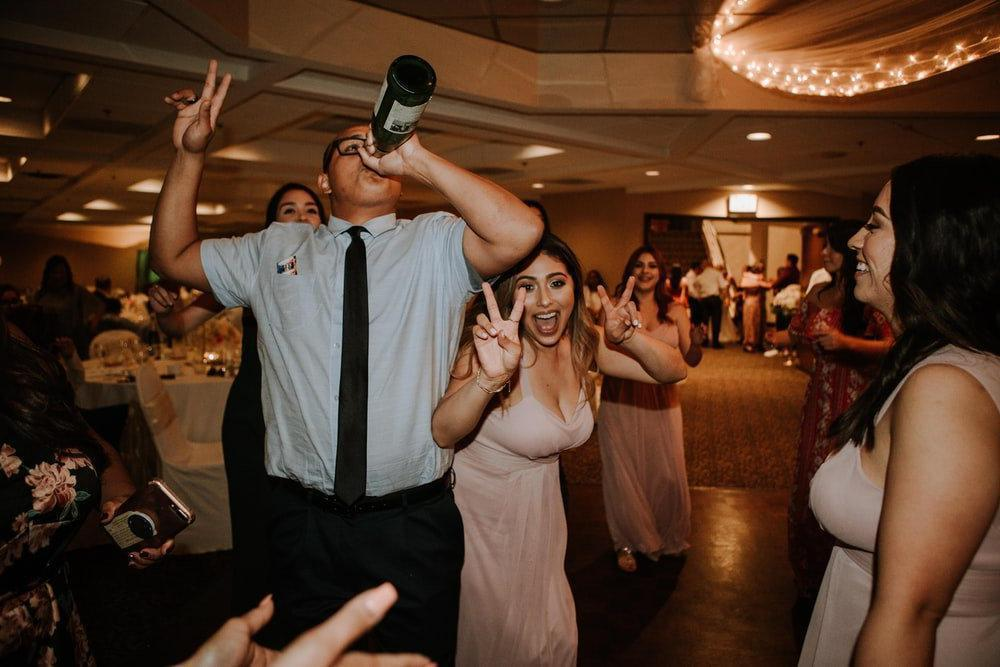Drunk: (519, 263, 578, 342)
